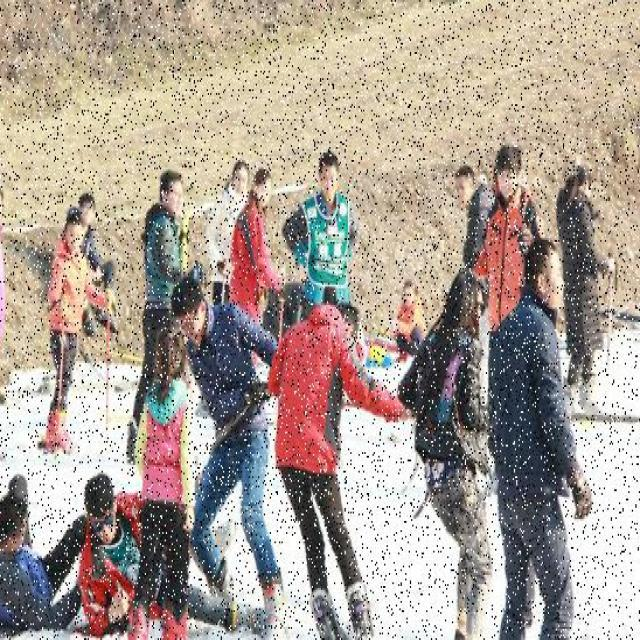fall: (82, 476, 251, 627)
